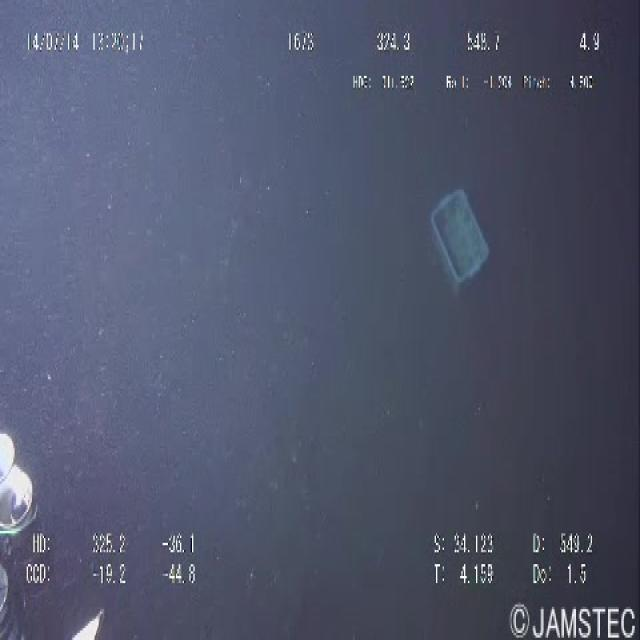plastic: (416, 166, 497, 294)
